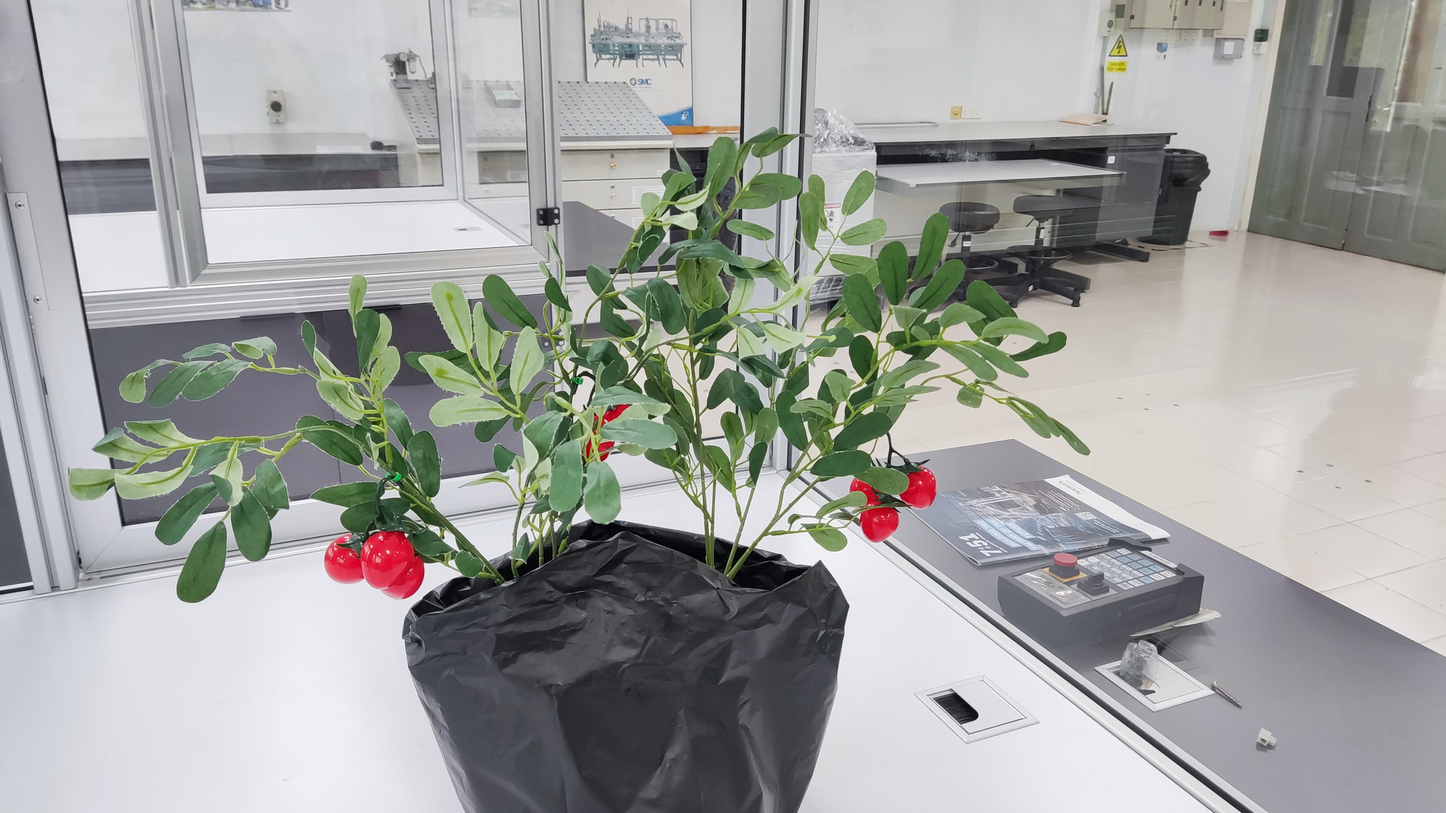peduncle: (376, 476, 389, 490), (579, 371, 596, 380), (886, 432, 892, 447)
strawberry: (360, 531, 415, 590), (324, 534, 364, 584), (381, 555, 425, 600), (900, 468, 937, 510), (860, 507, 900, 543), (851, 478, 880, 504), (601, 404, 632, 428), (597, 441, 613, 461), (585, 439, 593, 458)
